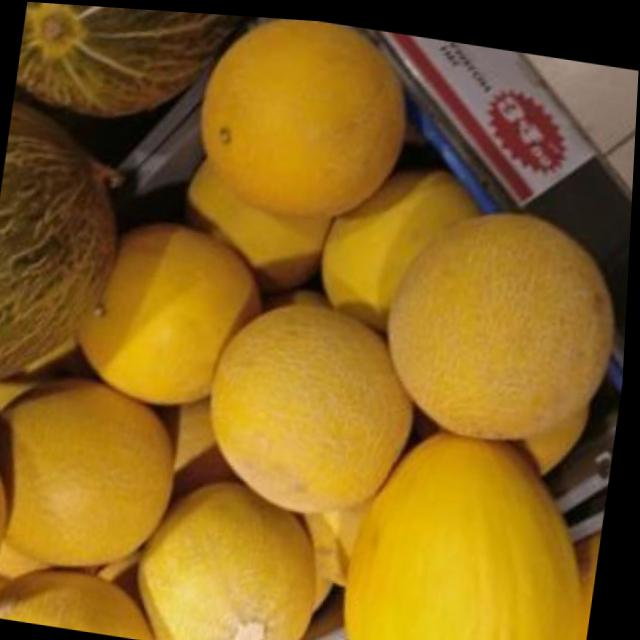Cantaloupe: (375, 183, 633, 451), (196, 275, 420, 522), (192, 10, 411, 227), (57, 194, 265, 414), (0, 361, 199, 582), (131, 459, 336, 640)
